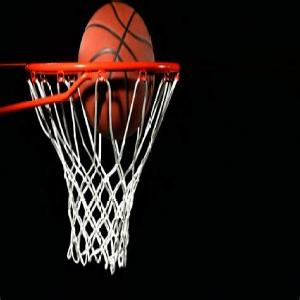Basket: (79, 2, 155, 138)
